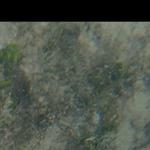dead: (1, 22, 148, 147)
